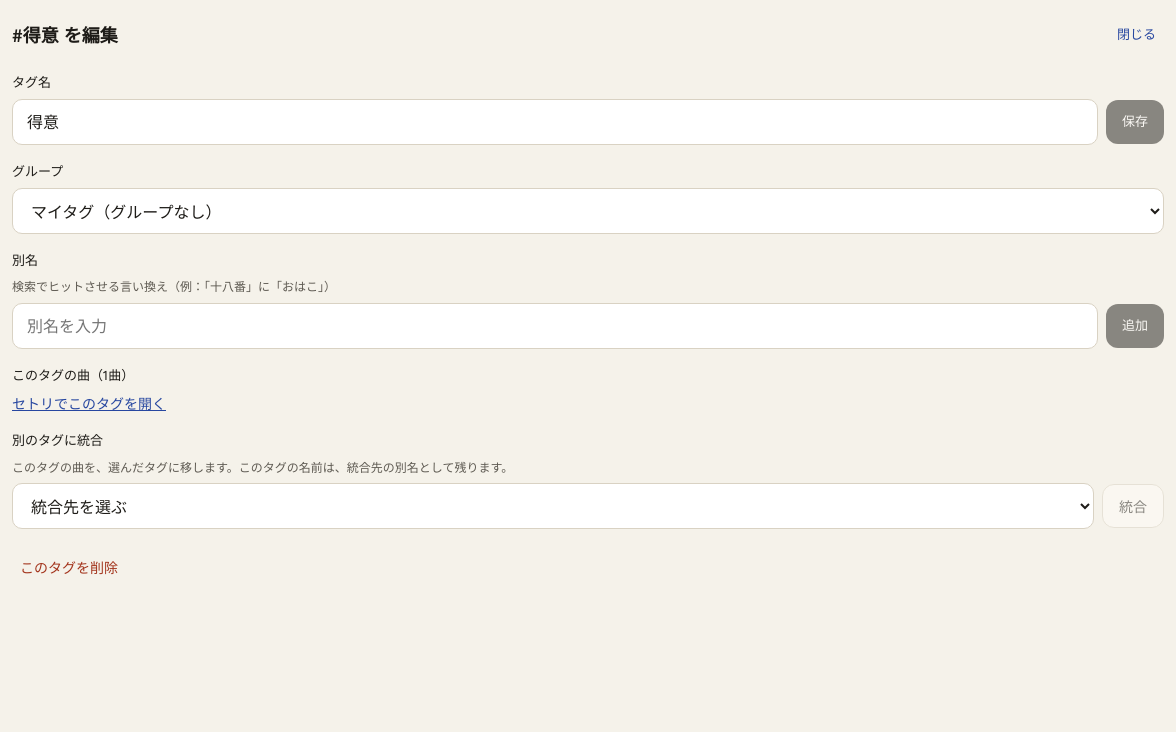
Test: TagEditor › グループを移す
Select "気分" in the dropdown labelled "グループ" at (588, 211), box [12, 188, 1164, 234]
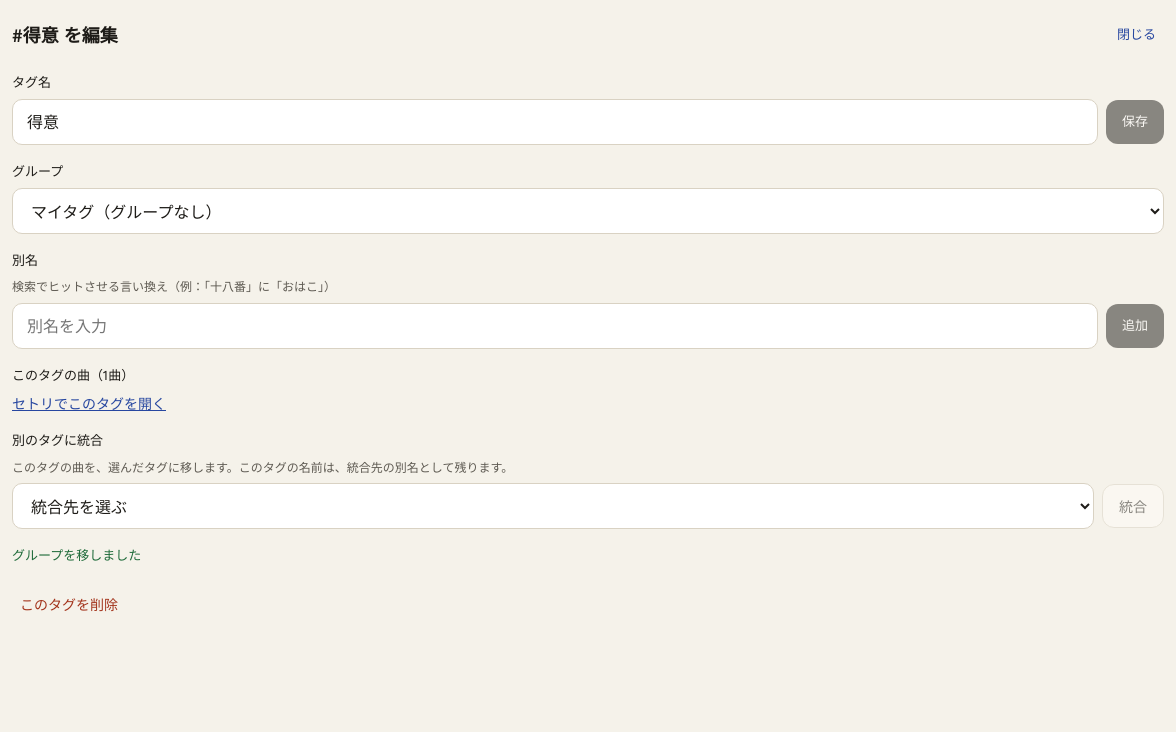
Result: the message reads "グループを移しました" at [12, 545, 141, 564]
